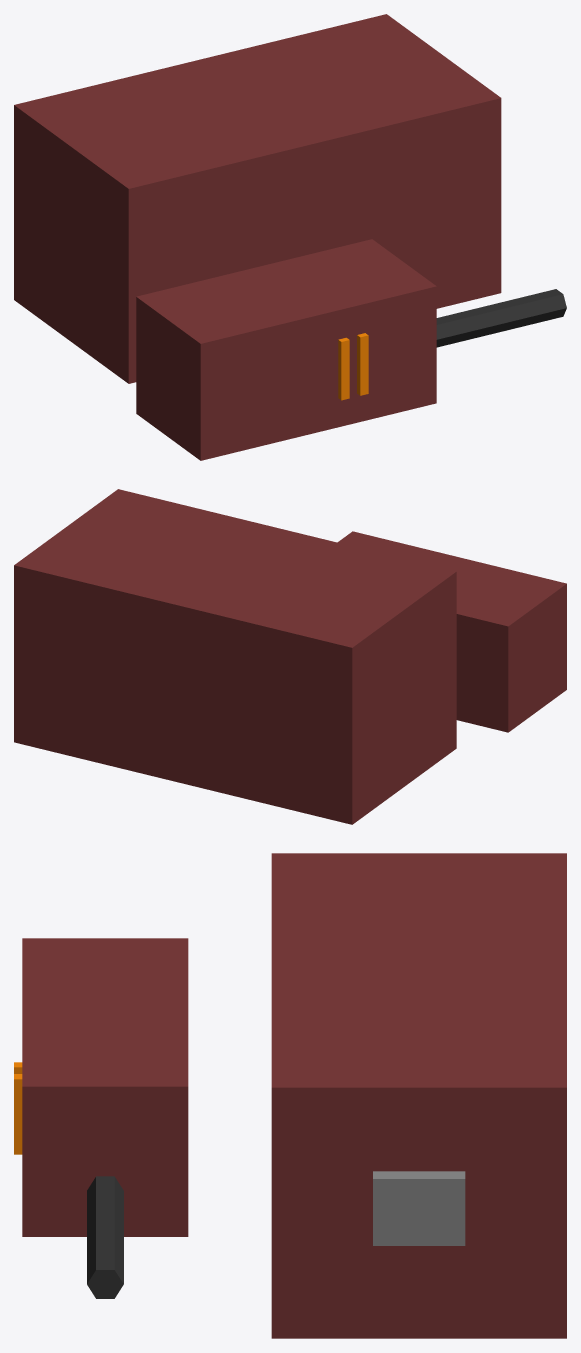
The model's file is ce_ammo2_flame_prom_b.obj.
3 renders of one model, top to bottom at view 1: azimuth 30°, elevation 25°; view 2: azimuth 150°, elevation 25°; view 3: azimuth 270°, elevation 25°, orthographic. The views are drawn at different scales.
Parts seen in each view (by area): view 1: ce_ammo2_flame_prom_b_0, ce_ammo2_flame_prom_b_2, ce_ammo2_flame_prom_b_5, ce_ammo2_flame_prom_b_3, ce_ammo2_flame_prom_b_4; view 2: ce_ammo2_flame_prom_b_0, ce_ammo2_flame_prom_b_2; view 3: ce_ammo2_flame_prom_b_0, ce_ammo2_flame_prom_b_2, ce_ammo2_flame_prom_b_1, ce_ammo2_flame_prom_b_5, ce_ammo2_flame_prom_b_4.
Part boxes in pixels (x1,y1,x2,y2): ce_ammo2_flame_prom_b_0: (14,14,501,383); ce_ammo2_flame_prom_b_2: (136,239,436,460); ce_ammo2_flame_prom_b_5: (436,289,566,347); ce_ammo2_flame_prom_b_3: (338,337,349,400); ce_ammo2_flame_prom_b_4: (357,333,368,395); ce_ammo2_flame_prom_b_0: (14,489,456,824); ce_ammo2_flame_prom_b_2: (337,531,566,732); ce_ammo2_flame_prom_b_0: (271,853,566,1338); ce_ammo2_flame_prom_b_2: (22,938,188,1236); ce_ammo2_flame_prom_b_1: (373,1171,465,1245); ce_ammo2_flame_prom_b_5: (87,1176,123,1298); ce_ammo2_flame_prom_b_4: (14,1074,22,1154).
Bounding box in the file's own units: 0.66 × 0.3 × 0.599.
